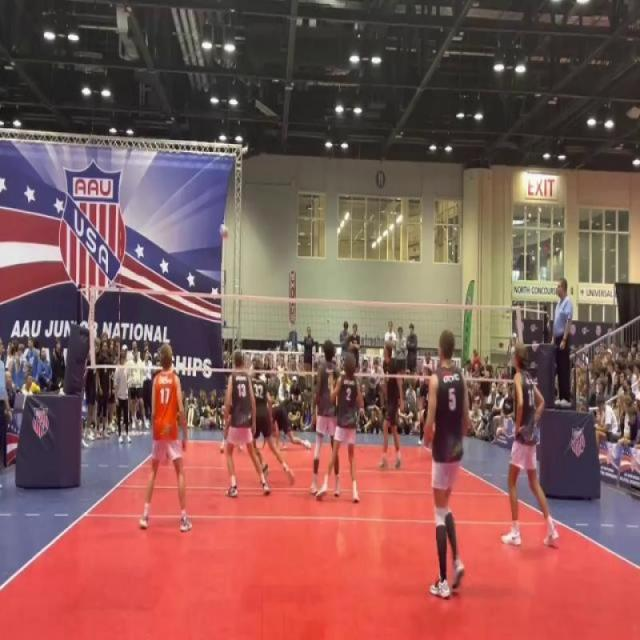volleyball: (218, 222, 229, 239)
